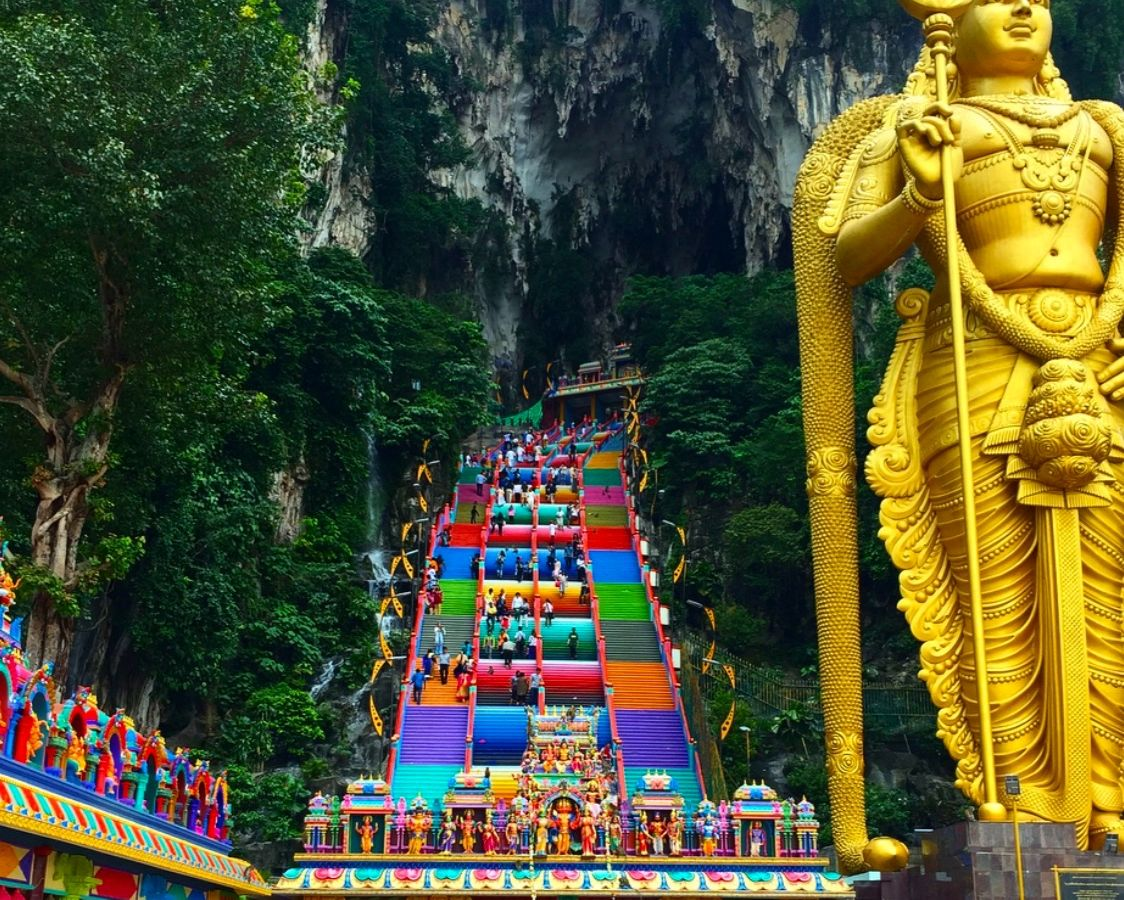Hindu Temple: (788, 3, 1124, 853)
